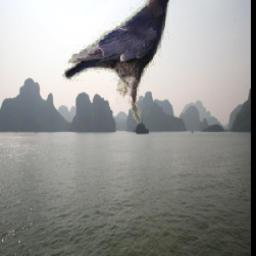Crow: (62, 0, 185, 125)
